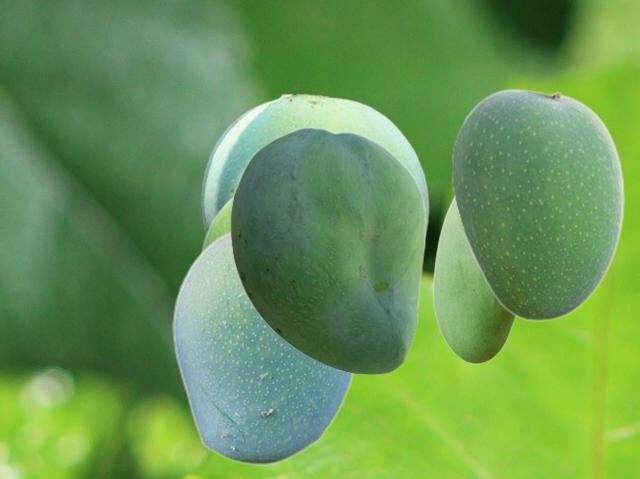green_mango: (230, 127, 425, 374), (171, 230, 356, 465), (451, 88, 624, 320), (201, 92, 428, 245), (432, 196, 516, 363), (199, 195, 232, 250)
